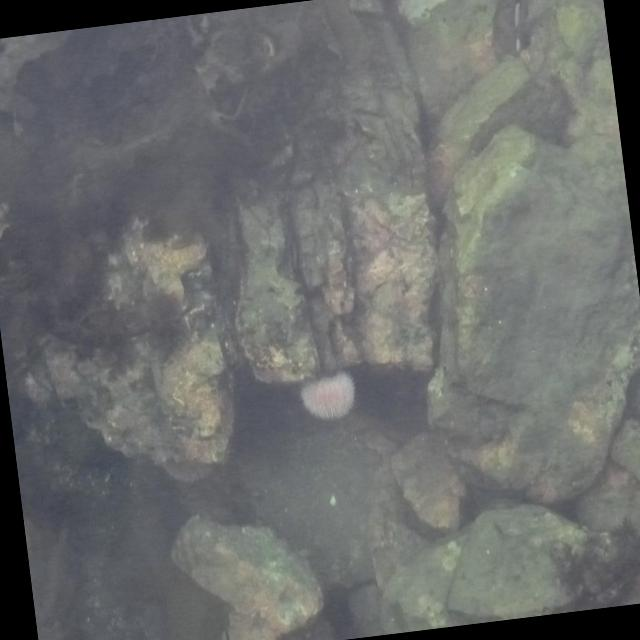Deniz Kestanesi: (296, 368, 358, 423)
